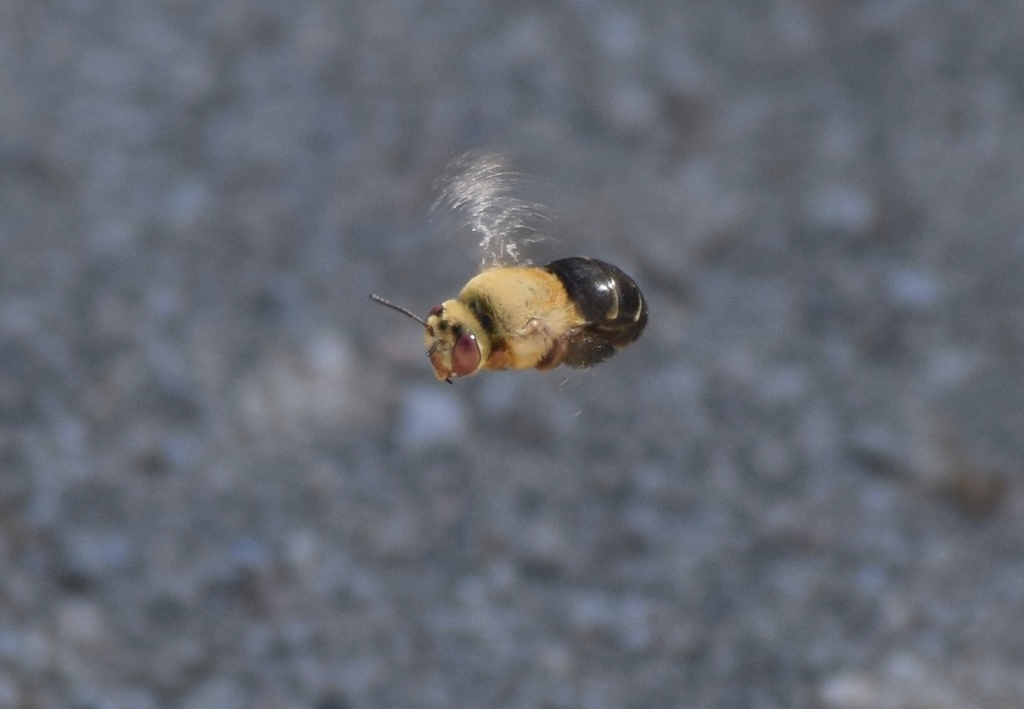not_bumblebee: (368, 148, 651, 389)
